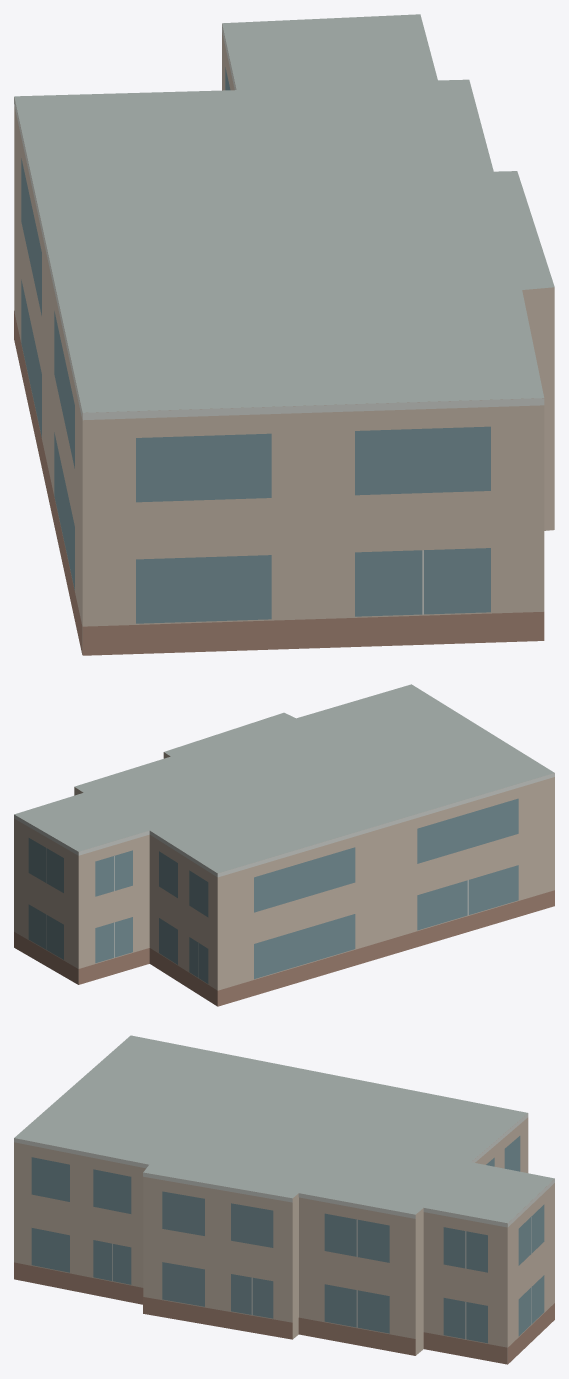
Rendered from survey-upis-32680953.glb.
The picture shows the model from 3 angles, top to bottom: view 1: azimuth 30°, elevation 25°; view 2: azimuth 150°, elevation 25°; view 3: azimuth 270°, elevation 25°; orthographic projection. The views are drawn at different scales.
Parts seen in each view (by area): view 1: survey-upis-32680953.tmp; view 2: survey-upis-32680953.tmp; view 3: survey-upis-32680953.tmp.
Boxes of the visible parts, left/top/right/bottom form: survey-upis-32680953.tmp: left=14, top=14, right=554, bottom=655; survey-upis-32680953.tmp: left=14, top=684, right=554, bottom=1006; survey-upis-32680953.tmp: left=14, top=1035, right=554, bottom=1364.
Bounding box in the file's own units: 23.12 × 8.1 × 28.11.
